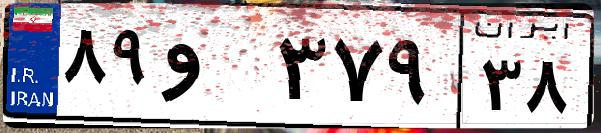3: (270, 28, 330, 110), (475, 38, 525, 113)
7: (330, 28, 385, 110)
8: (57, 26, 110, 100), (525, 38, 570, 115)
9: (385, 28, 445, 110), (110, 28, 158, 98)
و: (158, 20, 270, 120)
